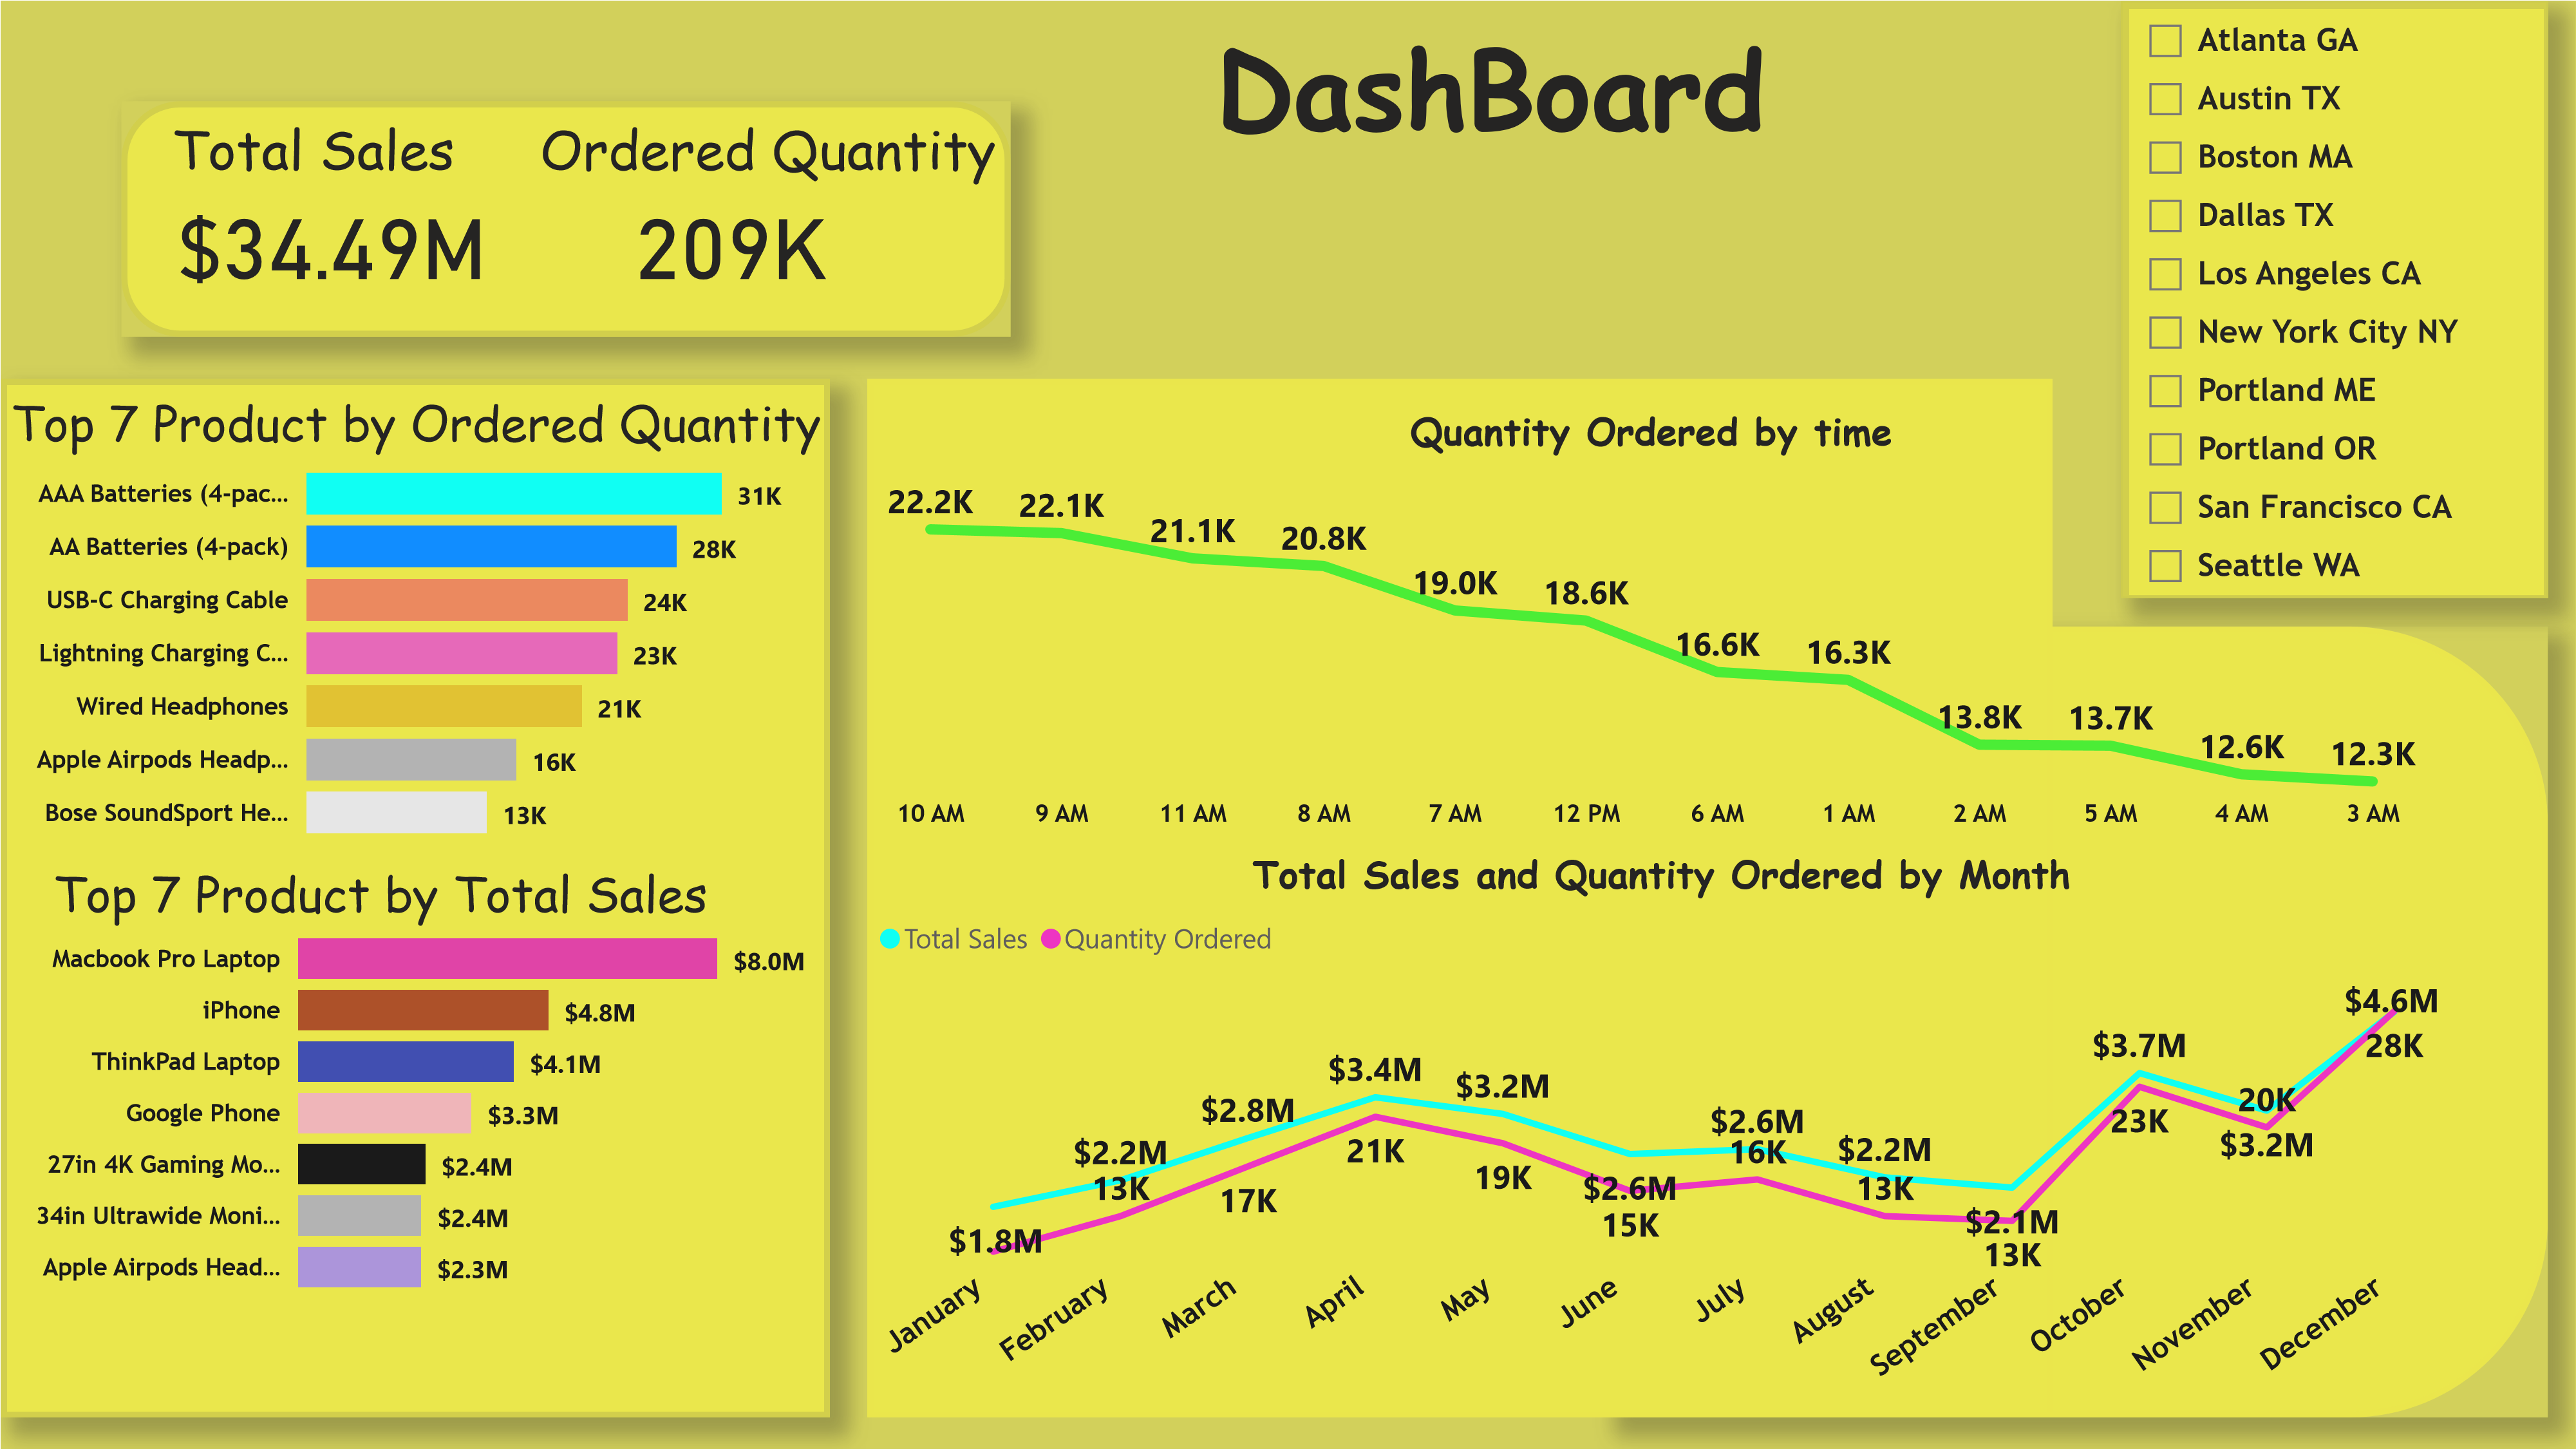

What the dashboard file says about the page in this screenshot:
{"tool":"powerbi","page":{"name":"Page 1","canvas":[1280,720],"ordinal":0},"visuals":[{"type":"shape","box":[1054.4,0,211.9,297.4],"z":0},{"type":"shape","box":[798.1,311,468.3,393.1],"z":1000},{"type":"shape","box":[59.8,49.6,442.6,117.9],"z":2000},{"type":"shape","title":"Shape2","box":[0,188,411.9,516.1],"z":3000},{"type":"shape","title":"Shape3","box":[430.7,188,589.6,516.1],"z":4000},{"type":"card","title":"Total Sales","fields":{"Values":["Sum(final_all_data.total_price)"]},"box":[41.7,60.4,245.7,117.8],"z":5000},{"type":"card","title":"Ordered Quantity","fields":{"Values":["Sum(final_all_data.Quantity Ordered)"]},"box":[240,70.4,245.7,97.7],"z":6000},{"type":"slicer","fields":{"Values":["final_all_data.City"]},"box":[1054.9,0,192.6,310.4],"z":7000},{"type":"barChart","title":"Top 7 Most Ordered Product","fields":{"Category":["final_all_data.Product"],"Y":["Sum(final_all_data.Quantity Ordered)"]},"box":[0,211.3,422.5,218.4],"z":8000},{"type":"barChart","title":"Top 7 Product by Sale","fields":{"Category":["final_all_data.Product"],"Y":["Sum(final_all_data.total_price)"]},"box":[0,442.6,412.5,212.7],"z":9000},{"type":"lineChart","fields":{"Y":["Sum(final_all_data.total_price)"],"Category":["final_all_data.Order Date.Variation.Date Hierarchy.Month"],"Y2":["Sum(final_all_data.Quantity Ordered)"]},"box":[430.7,420.4,789.5,283.7],"z":10000},{"type":"lineChart","fields":{"Category":["final_all_data.time"],"Y":["Sum(final_all_data.Quantity Ordered)"]},"box":[431.1,199.8,778.9,219.9],"z":11000},{"type":"textbox","box":[80.3,49.6,167.5,64.9],"z":12000},{"type":"textbox","box":[263.2,49.6,258.1,59.8],"z":13000},{"type":"textbox","box":[0,188,422.1,47.9],"z":14000},{"type":"textbox","box":[20.5,422.1,422.1,47.9],"z":15000},{"type":"textbox","box":[599.3,0,376.5,109.2],"z":16000}]}

Visuals, with their boxes in screenshot pixels (x1, y1, x2, y2), scaled from the page's 1280x720 canvas onto the 2576x1449 screenshot:
shape: 2122,0,2548,598
shape: 1606,626,2548,1417
shape: 120,100,1011,337
"Shape2" shape: 0,379,829,1417
"Shape3" shape: 867,379,2053,1417
"Total Sales" card: 84,122,578,359
"Ordered Quantity" card: 483,142,977,338
slicer - final_all_data.City: 2123,0,2510,625
"Top 7 Most Ordered Product" barChart: 0,425,851,865
"Top 7 Product by Sale" barChart: 0,891,830,1319
lineChart - Sum(final_all_data.total_price) x final_all_data.Order Date.Variation.Date Hierarchy.Month: 867,846,2456,1417
lineChart - final_all_data.time x Sum(final_all_data.Quantity Ordered): 868,402,2435,845
textbox: 162,100,499,231
textbox: 530,100,1049,220
textbox: 0,379,849,475
textbox: 41,849,890,946
textbox: 1206,0,1964,220
